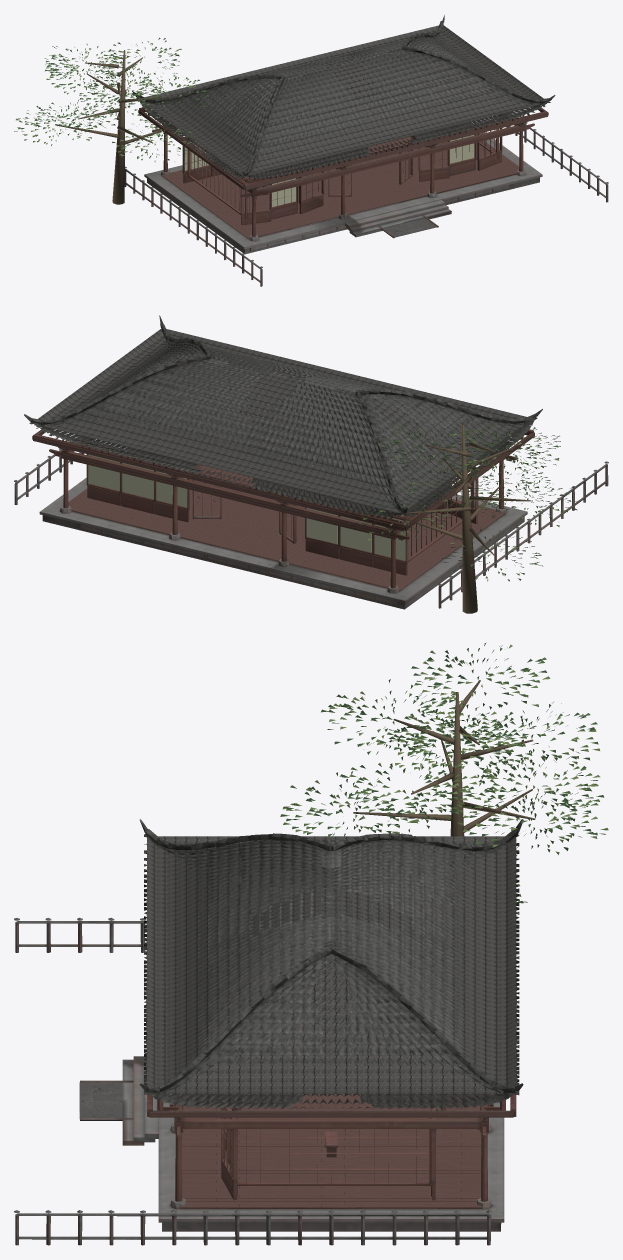
File: reference-public_models_places-low_aojingxiguan.glb
The picture shows the model from 3 angles, top to bottom: view 1: azimuth 30°, elevation 25°; view 2: azimuth 150°, elevation 25°; view 3: azimuth 270°, elevation 25°; orthographic projection. The views are drawn at different scales.
Visible parts, largest first — view 1: Mobile_aojingxiguan_roof, Mobile_aojingxiguan, Mobile_aojingxiguan_roofshell, Mobile_aojingxiguan_floorwood, Mobile_aojingxiguan_plants, aojingxiguan_screen.001, Mobile_aojingxiguan_paving; view 2: Mobile_aojingxiguan_roof, Mobile_aojingxiguan_roofshell, Mobile_aojingxiguan, Mobile_aojingxiguan_floorwood, Mobile_aojingxiguan_plants, aojingxiguan_screen.001; view 3: Mobile_aojingxiguan_roof, Mobile_aojingxiguan_roofshell, Mobile_aojingxiguan, Mobile_aojingxiguan_floorwood, Mobile_aojingxiguan_plants, Mobile_aojingxiguan_paving.
Part boxes in pixels (x1,y1,x2,y2): Mobile_aojingxiguan_roof: (132, 15, 555, 179); Mobile_aojingxiguan: (124, 106, 608, 286); Mobile_aojingxiguan_roofshell: (141, 25, 548, 176); Mobile_aojingxiguan_floorwood: (162, 126, 519, 238); Mobile_aojingxiguan_plants: (14, 37, 209, 204); aojingxiguan_screen.001: (185, 135, 474, 206); Mobile_aojingxiguan_paving: (125, 122, 608, 268); Mobile_aojingxiguan_roof: (24, 315, 542, 518); Mobile_aojingxiguan_roofshell: (32, 329, 534, 513); Mobile_aojingxiguan: (14, 427, 608, 609); Mobile_aojingxiguan_floorwood: (68, 451, 505, 590); Mobile_aojingxiguan_plants: (348, 417, 578, 613); aojingxiguan_screen.001: (88, 444, 405, 560); Mobile_aojingxiguan_roof: (139, 819, 523, 1109); Mobile_aojingxiguan_roofshell: (147, 836, 516, 1093); Mobile_aojingxiguan: (15, 921, 516, 1245); Mobile_aojingxiguan_floorwood: (180, 1094, 482, 1207); Mobile_aojingxiguan_plants: (280, 642, 608, 903); Mobile_aojingxiguan_paving: (14, 917, 491, 1213).
Bounding box in the file's own units: 28.33 × 9.15 × 18.92.
Materials: 7 (5 with a texture image).
